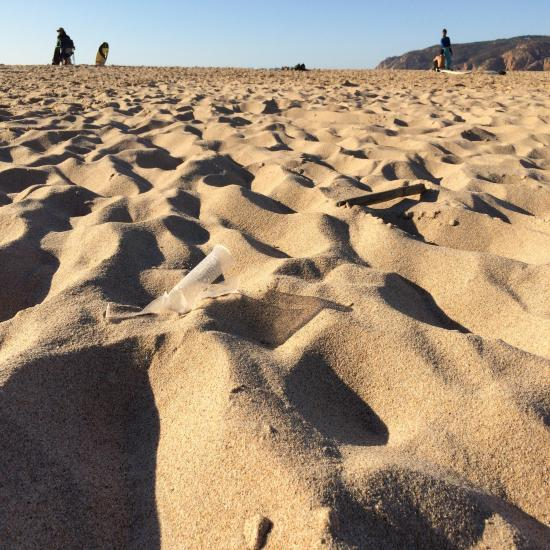Disposable plastic cup: (105, 244, 239, 320)
